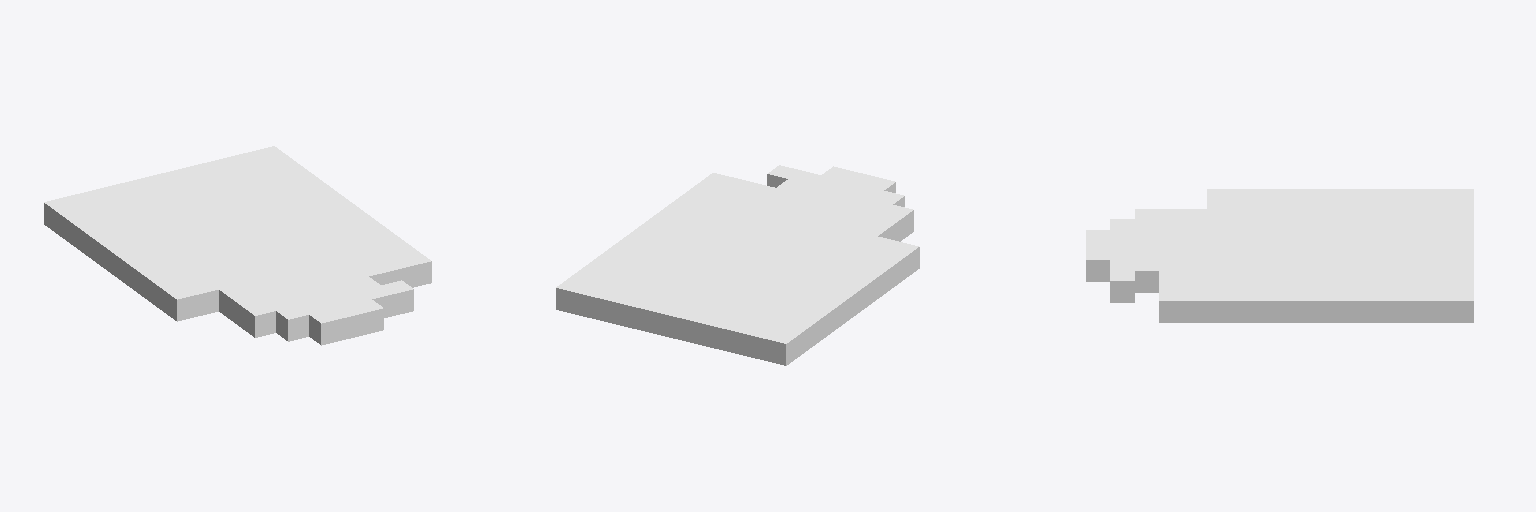
File: stairs_shard-4.obj
3 renders of one model, left to right at view 1: azimuth 30°, elevation 25°; view 2: azimuth 150°, elevation 25°; view 3: azimuth 270°, elevation 25°, orthographic.
Parts seen in each view (by area): view 1: object 1; view 2: object 1; view 3: object 1.
Boxes of the visible parts, box(x1,y1,x2,y2) form: object 1: box(44, 146, 431, 345); object 1: box(556, 165, 919, 365); object 1: box(1086, 189, 1473, 322).
Size of the model in its own units: 1.1 by 0.1 by 1.6.